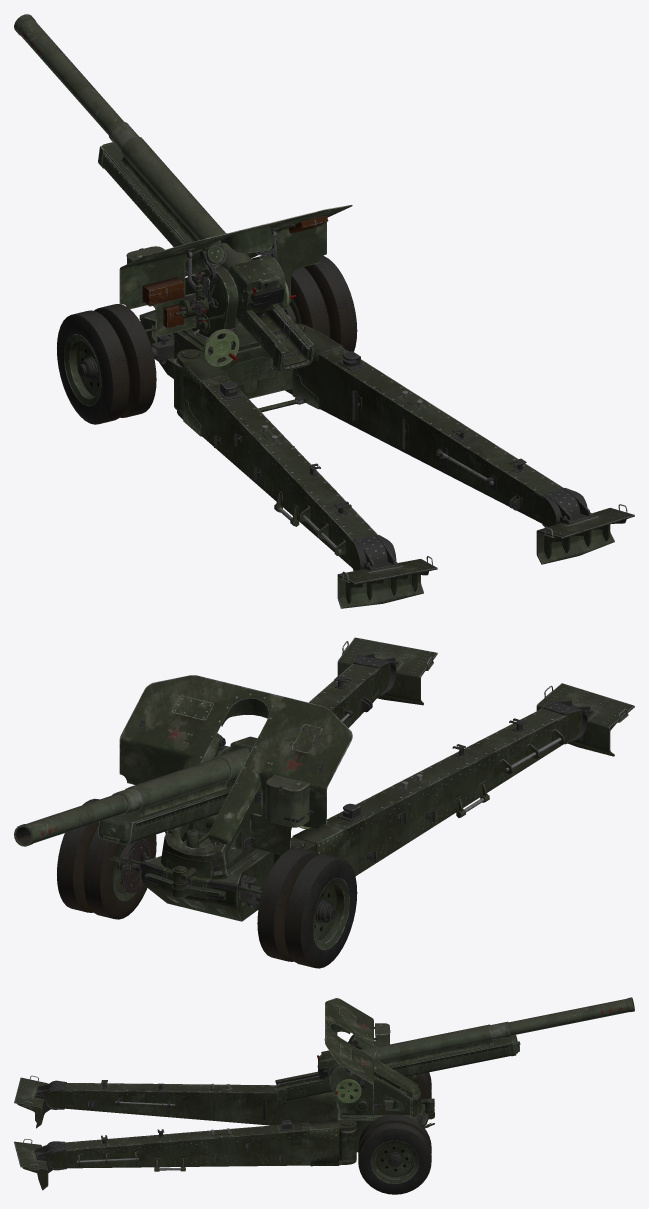
The model's file is 152mm_m-10_howitzer.glb.
3 views of the same model, one above another, from view 1: azimuth 30°, elevation 25°; view 2: azimuth 150°, elevation 25°; view 3: azimuth 270°, elevation 25° (orthographic). The views are drawn at different scales.
Visible parts, largest first — view 1: Object_5, Object_4, Object_2, Object_7, Object_8; view 2: Object_4, Object_5, Object_2, Object_7, Object_8; view 3: Object_5, Object_4, Object_7, Object_2, Object_8.
Boxes of the visible parts, bbox=[...] form: Object_5: bbox=[175, 272, 634, 608]; Object_4: bbox=[101, 136, 352, 412]; Object_2: bbox=[57, 256, 357, 424]; Object_7: bbox=[14, 14, 328, 392]; Object_8: bbox=[98, 146, 316, 375]; Object_4: bbox=[98, 675, 352, 921]; Object_5: bbox=[291, 637, 634, 876]; Object_2: bbox=[57, 798, 357, 968]; Object_7: bbox=[14, 695, 325, 900]; Object_8: bbox=[98, 698, 313, 889]; Object_5: bbox=[14, 1032, 356, 1190]; Object_4: bbox=[275, 998, 515, 1161]; Object_7: bbox=[317, 997, 634, 1126]; Object_2: bbox=[358, 1072, 434, 1194]; Object_8: bbox=[276, 1014, 516, 1118].
Bounding box in the file's own units: 1.97 × 1.63 × 5.81.
Materials: 4 (4 with a texture image).
